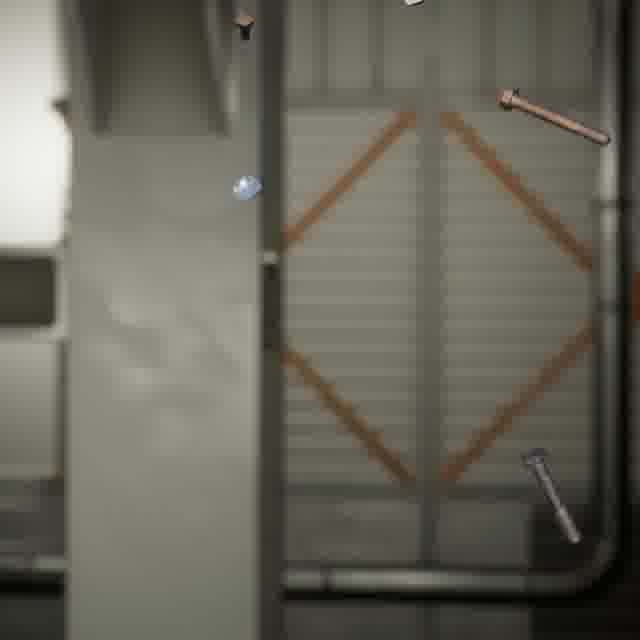bolt: (495, 81, 614, 150), (516, 442, 585, 547), (229, 4, 258, 66)
nut: (226, 170, 266, 205)
